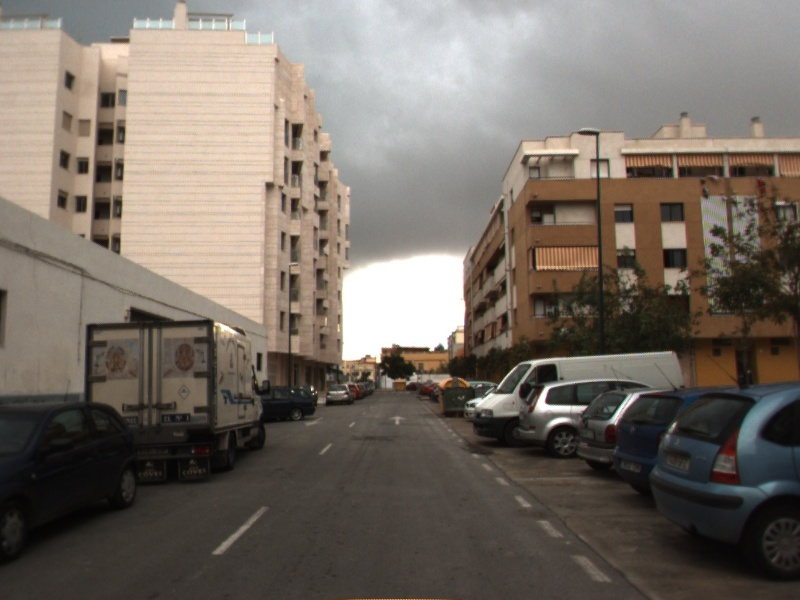STRAIGHT: (387, 414, 409, 427)
